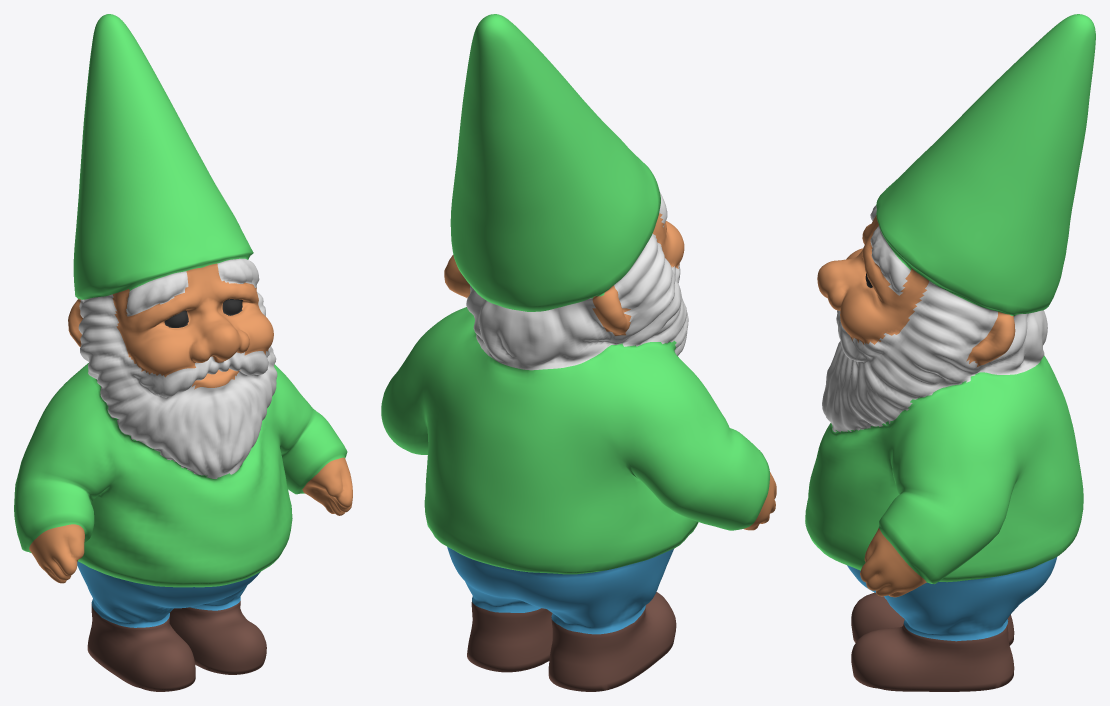
The model's file is GreenGnome.fbx.
3 views of the same model, side by side, from view 1: azimuth 30°, elevation 25°; view 2: azimuth 150°, elevation 25°; view 3: azimuth 270°, elevation 25° (orthographic). The views are drawn at different scales.
Parts seen in each view (by area): view 1: 13184_PudgyGnome_v1_NEW; view 2: 13184_PudgyGnome_v1_NEW; view 3: 13184_PudgyGnome_v1_NEW.
Part boxes in pixels (box(x1,y1,x2,y2)): 13184_PudgyGnome_v1_NEW: box(14, 14, 352, 691); 13184_PudgyGnome_v1_NEW: box(381, 14, 776, 691); 13184_PudgyGnome_v1_NEW: box(805, 14, 1095, 691).
Bounding box in the file's own units: 1796 × 3175 × 1304.
